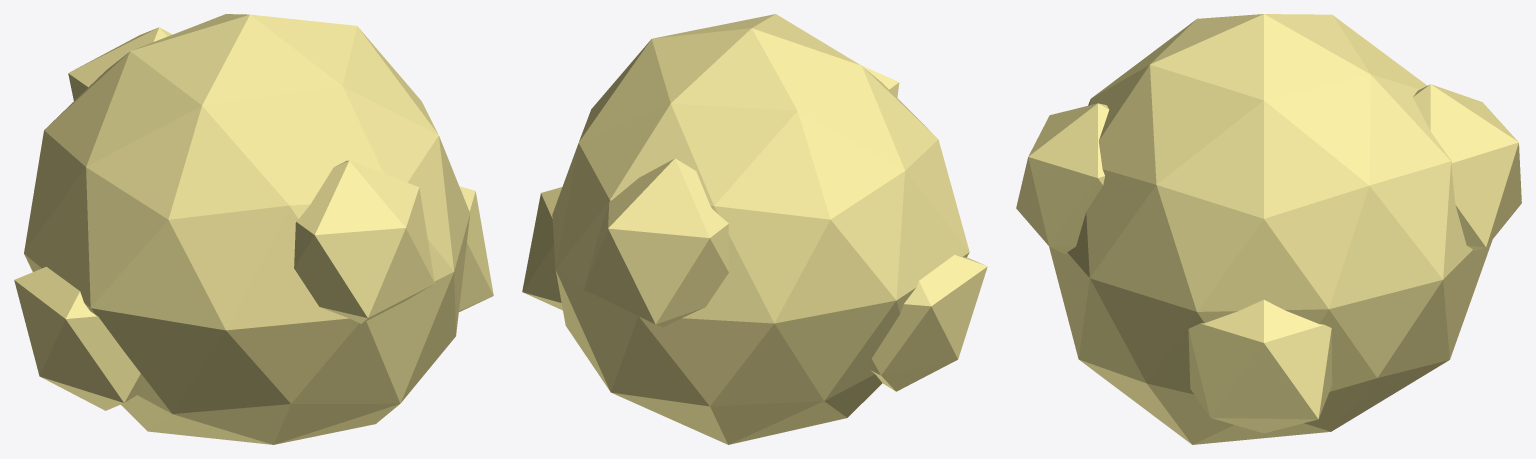
The model's file is cholesterol.glb.
The picture shows the model from 3 angles, left to right: view 1: azimuth 30°, elevation 25°; view 2: azimuth 150°, elevation 25°; view 3: azimuth 270°, elevation 25°; orthographic projection. The views are drawn at different scales.
Parts seen in each view (by area): view 1: cholesterol; view 2: cholesterol; view 3: cholesterol.
Part boxes in pixels (bbox=[...]): cholesterol: bbox=[14, 14, 493, 444]; cholesterol: bbox=[522, 14, 987, 444]; cholesterol: bbox=[1016, 14, 1521, 444].
Size of the model in its own units: 1.78 by 1.62 by 1.82.
